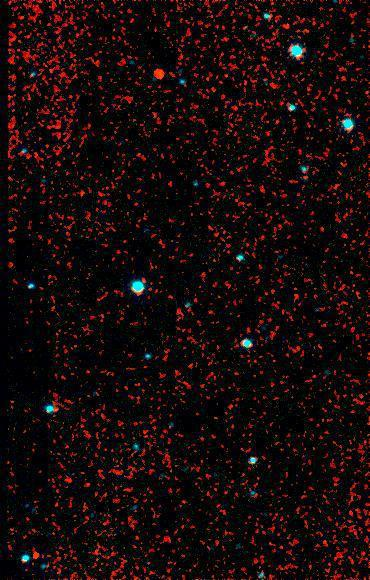star: (274, 16, 304, 46)
